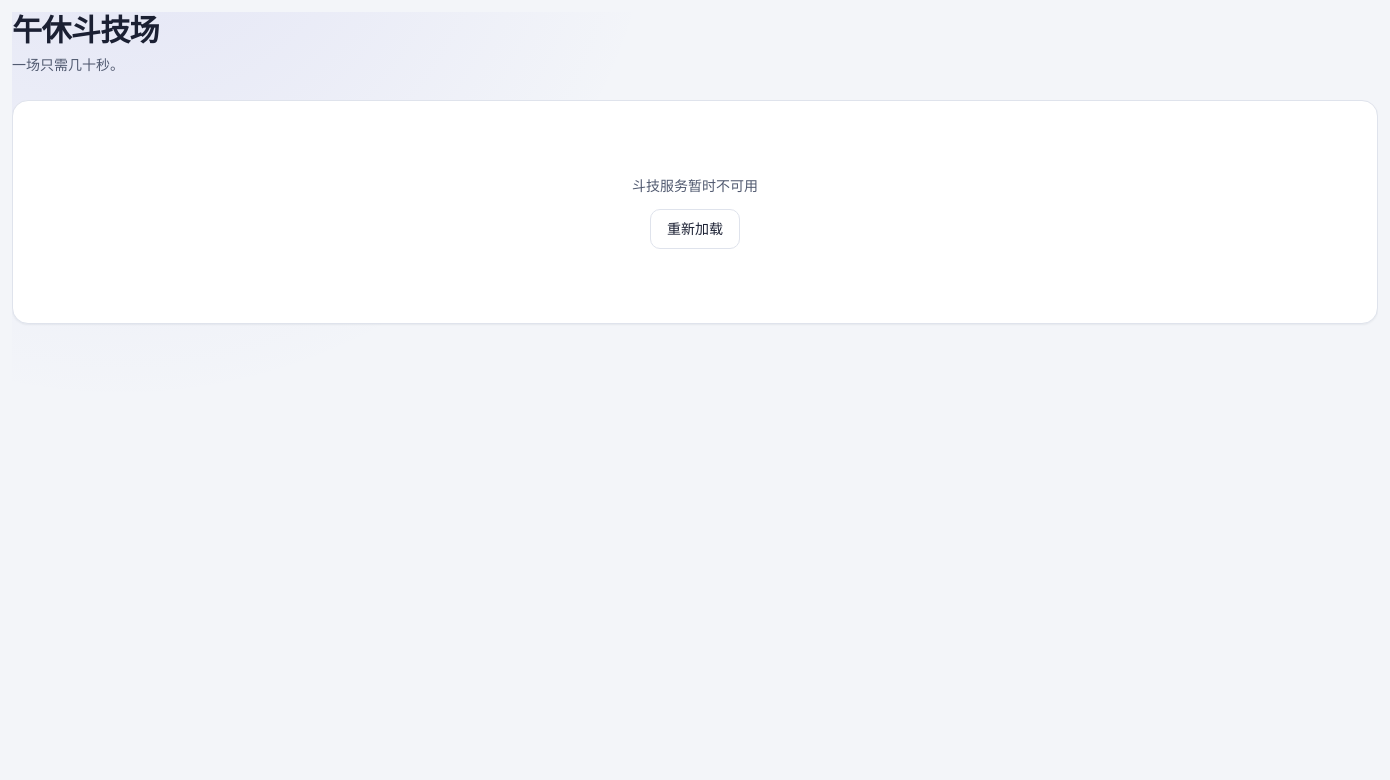
Test: ArenaPage › 加载失败时展示错误并允许重试
The width and height of the screenshot is (1390, 780).
expect the message shows "斗技服务暂时不可用": met, box [632,177,758,194]
Click the button "重新加载": x=695, y=229 [650,209,740,249]
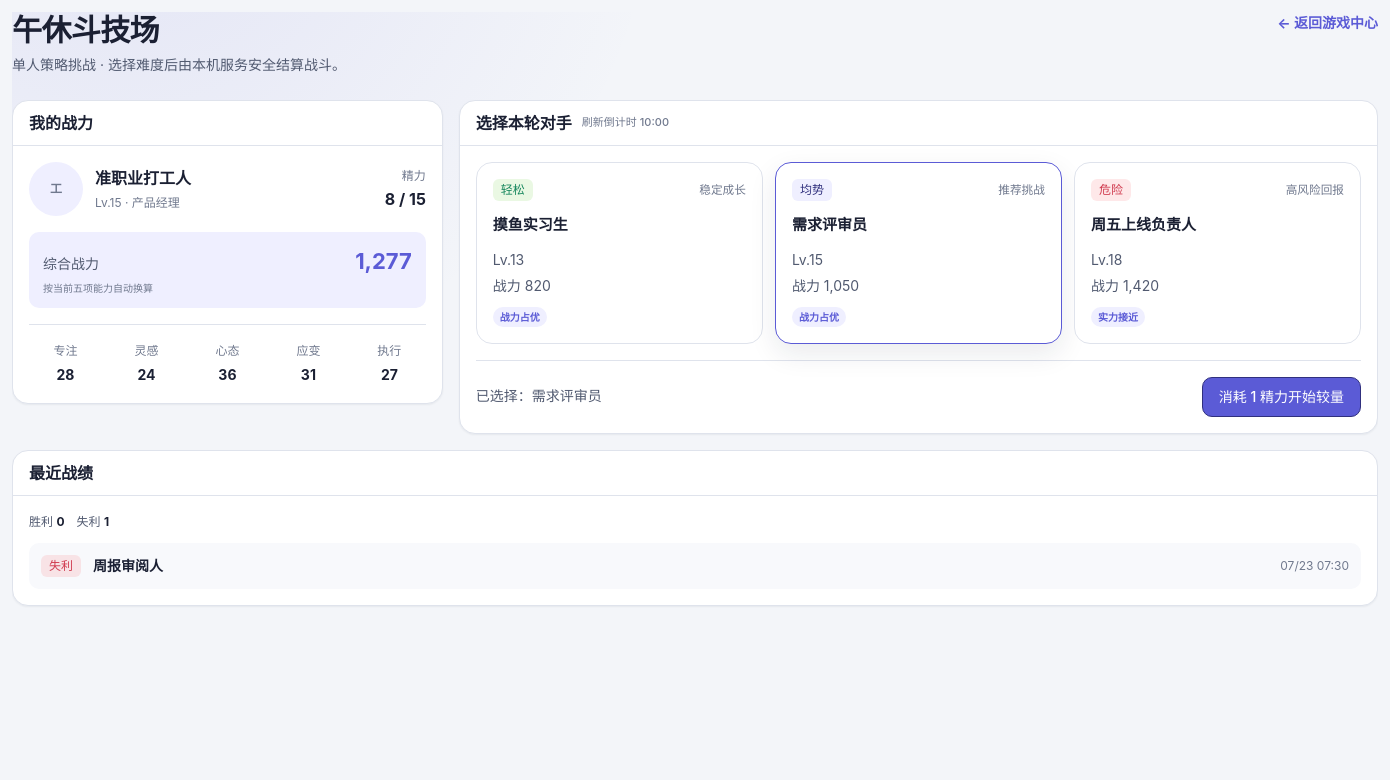
expect the text "准职业打工人" is shown: met, box [95,168,191,188]
